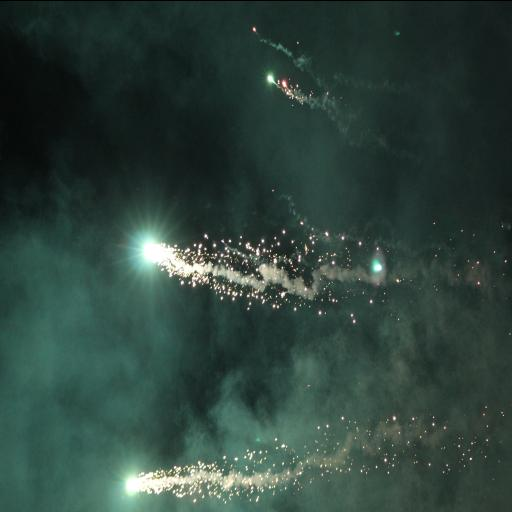la: (94, 50, 104, 65)
